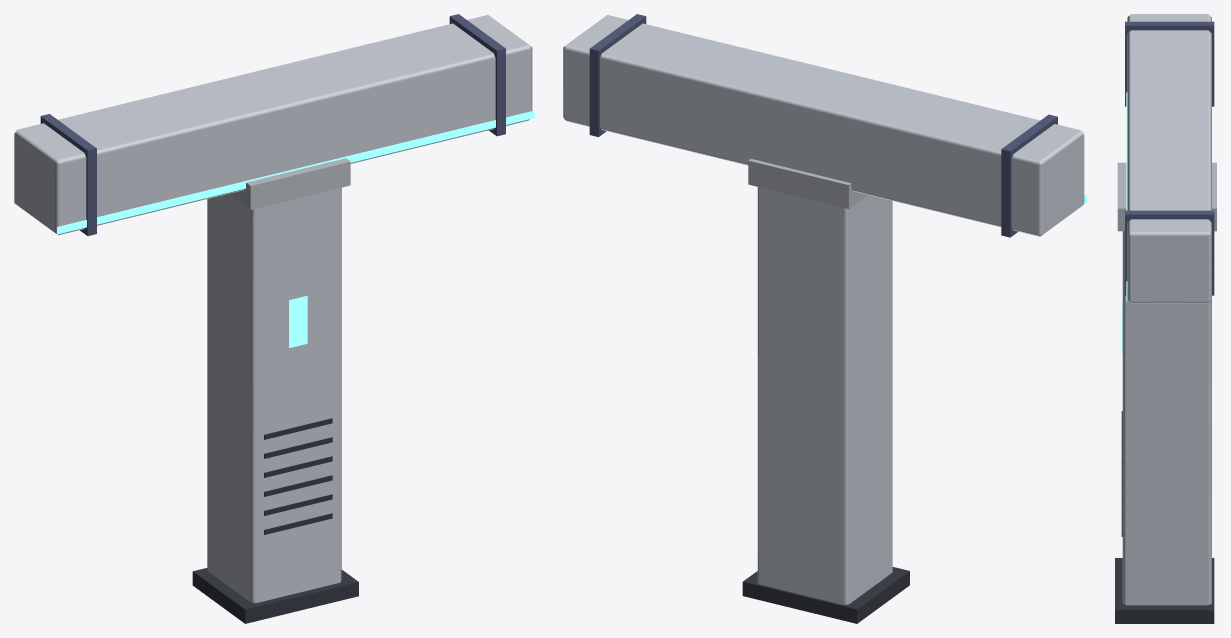
Rendered from station_transport_basis.glb.
3 renders of one model, left to right at view 1: azimuth 30°, elevation 25°; view 2: azimuth 150°, elevation 25°; view 3: azimuth 270°, elevation 25°, orthographic. The views are drawn at different scales.
Visible parts, largest first — view 1: station_transport_basis; view 2: station_transport_basis; view 3: station_transport_basis.
Part boxes in pixels (left/top/right/bottom): station_transport_basis: left=14, top=14, right=534, bottom=623; station_transport_basis: left=563, top=14, right=1086, bottom=623; station_transport_basis: left=1115, top=14, right=1216, bottom=623.
Size of the model in its own units: 2.1 by 2.13 by 0.41.
